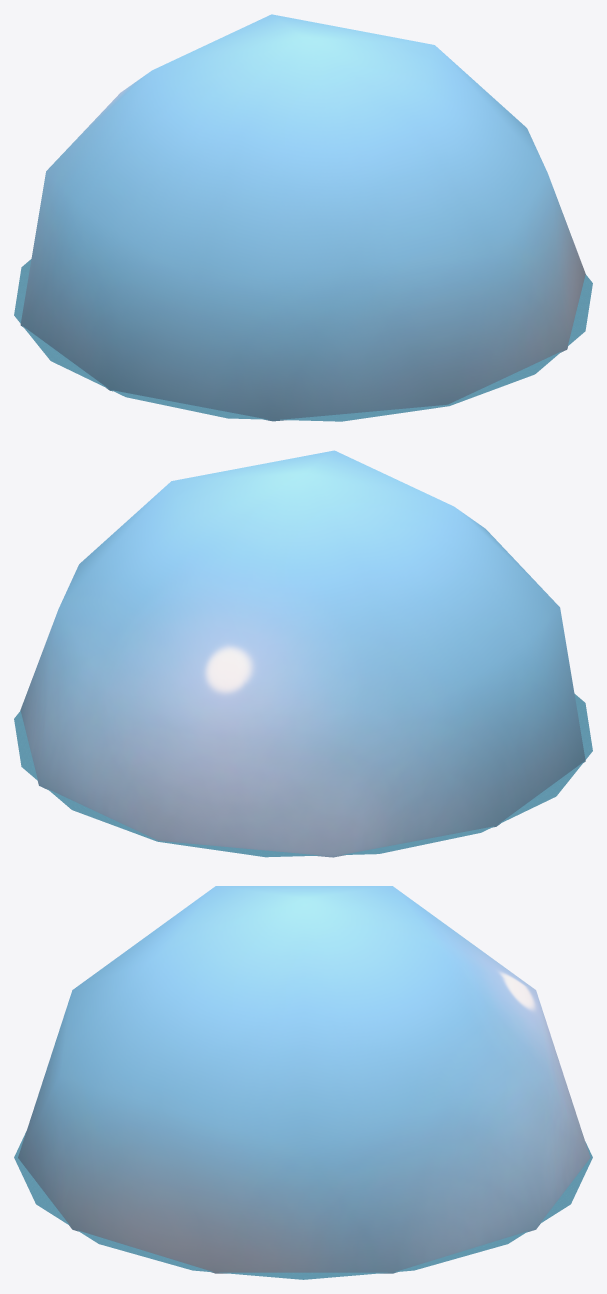
The model's file is sky_christmas.fbx.
3 renders of one model, top to bottom at view 1: azimuth 30°, elevation 25°; view 2: azimuth 150°, elevation 25°; view 3: azimuth 270°, elevation 25°, orthographic.
Parts seen in each view (by area): view 1: Cube.001; view 2: Cube.001; view 3: Cube.001.
Boxes of the visible parts, x1=… form: Cube.001: x1=14, y1=14, x2=592, y2=421; Cube.001: x1=14, y1=450, x2=592, y2=857; Cube.001: x1=14, y1=886, x2=592, y2=1279.
Bounding box in the file's own units: 1.31e+07 × 7494472 × 1.31e+07.
